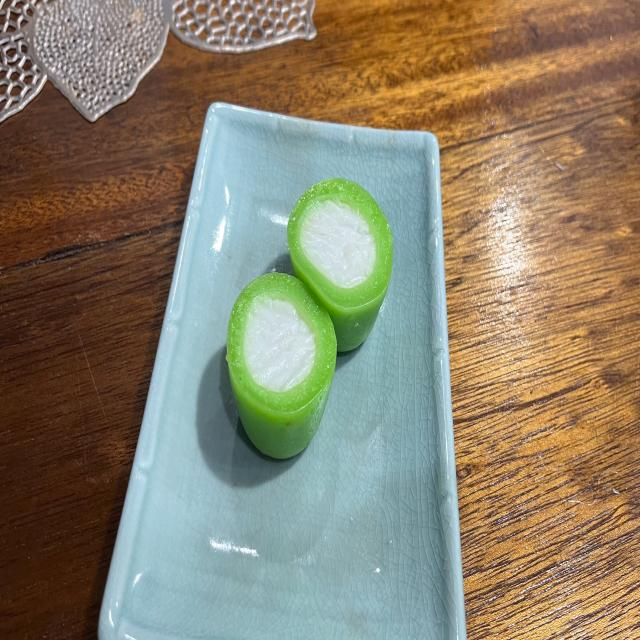nona-manis: (226, 273, 336, 458), (288, 178, 392, 351)
